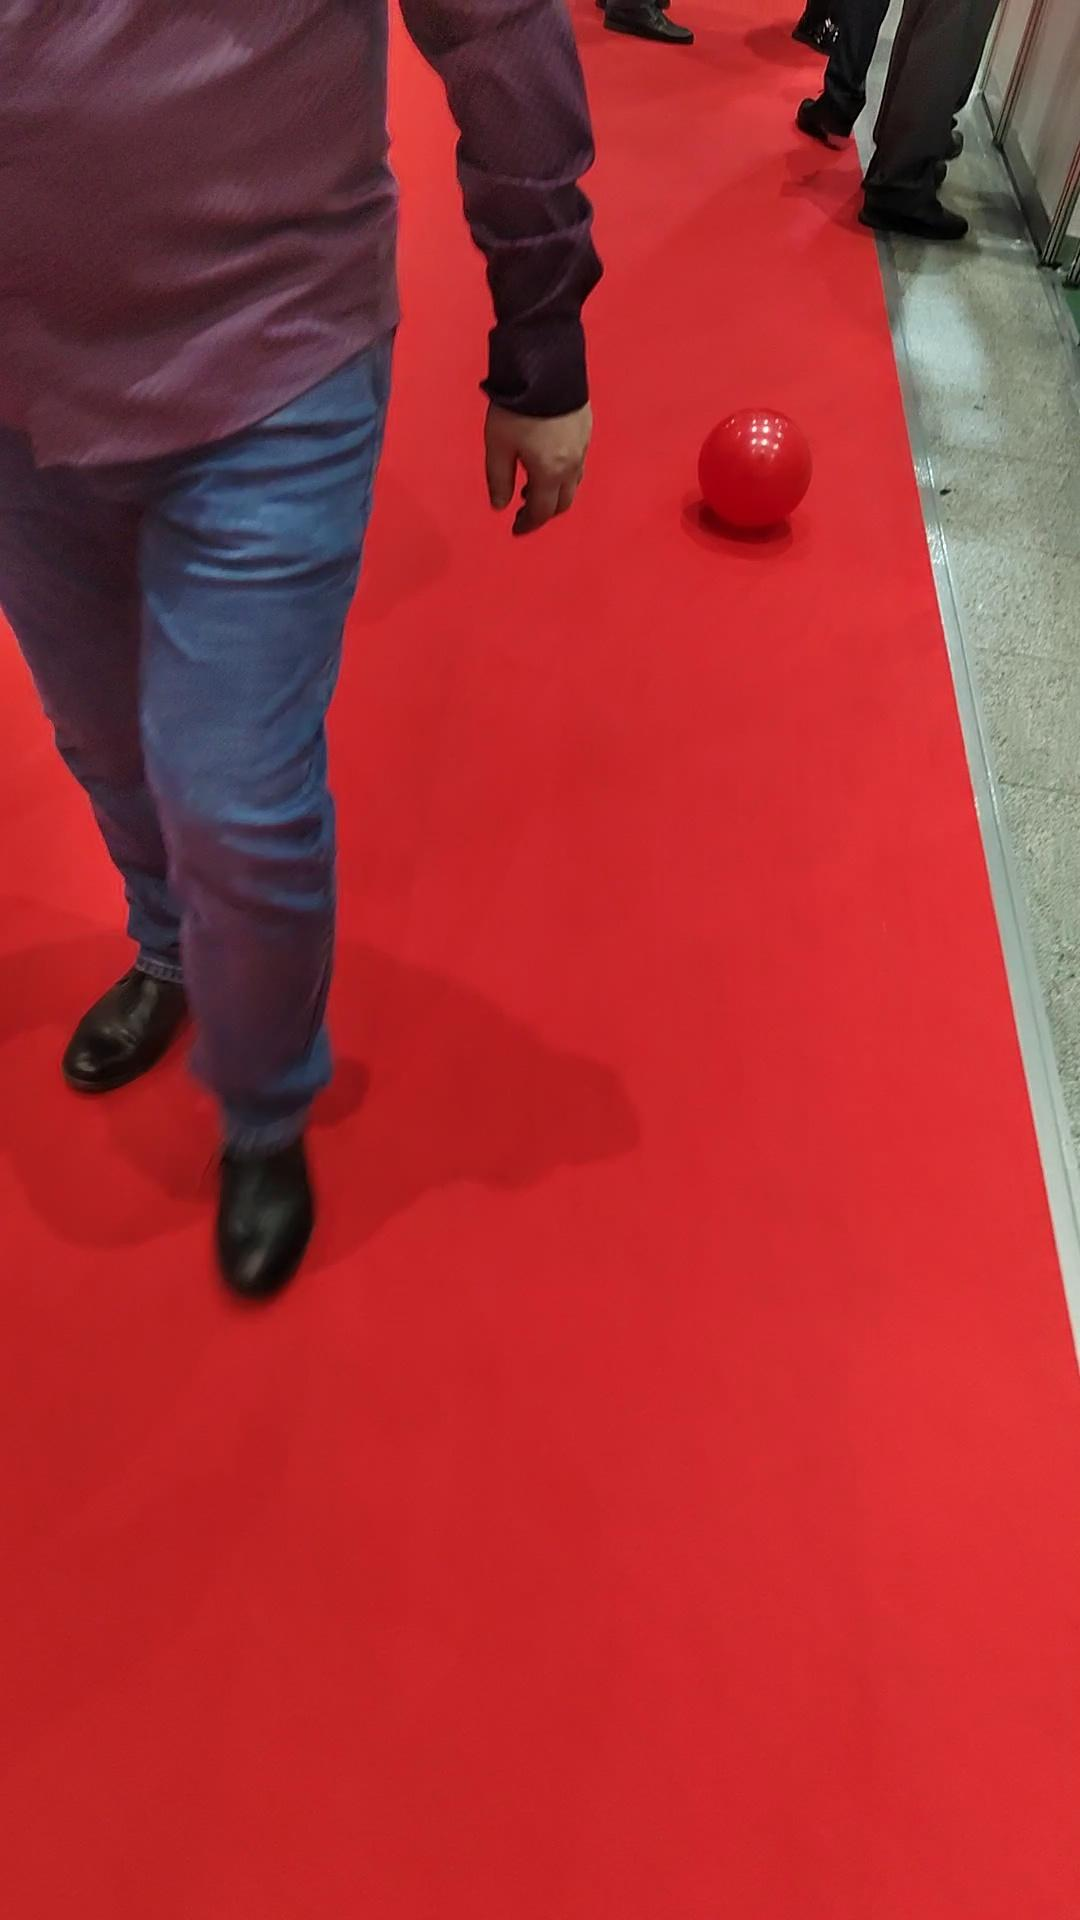red: (696, 406, 815, 529)
